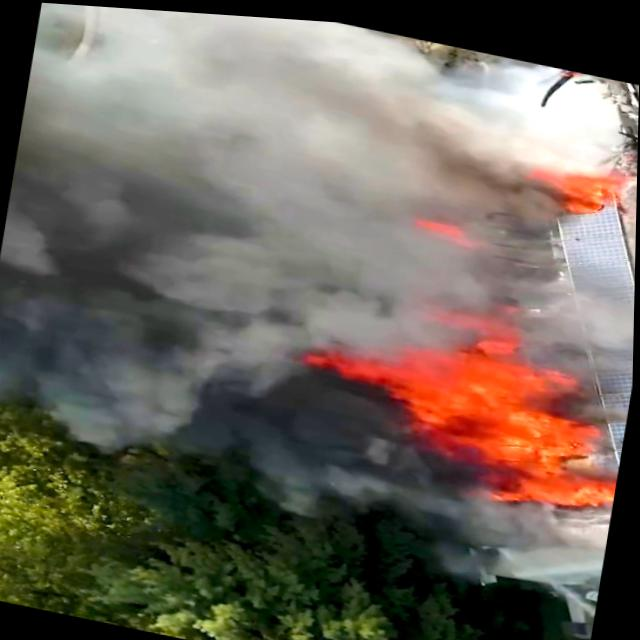fire: (290, 274, 591, 537)
smoke: (0, 77, 304, 475), (18, 30, 514, 236)
